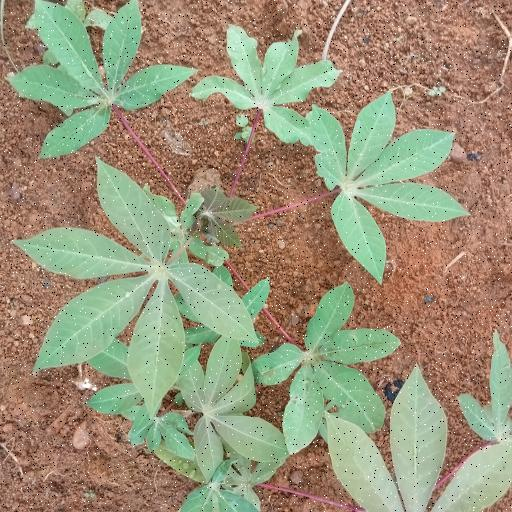Cassava_Mosaic: (36, 167, 248, 388), (18, 0, 182, 153), (311, 112, 463, 268), (263, 294, 382, 437), (200, 32, 331, 139), (186, 368, 282, 471)
